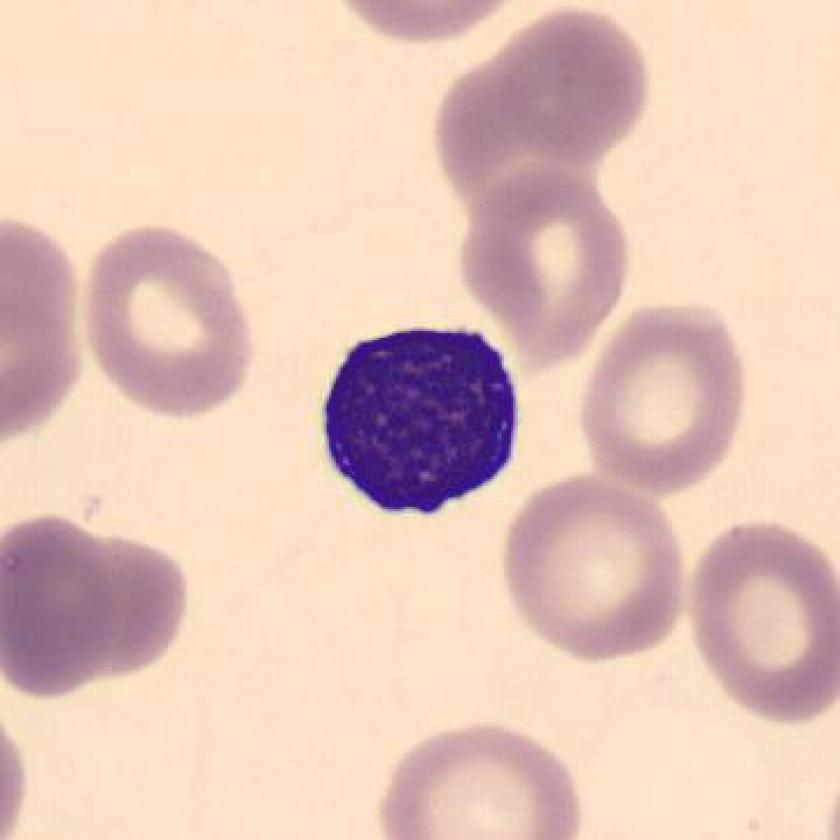lymphocyte: (305, 309, 536, 538)
